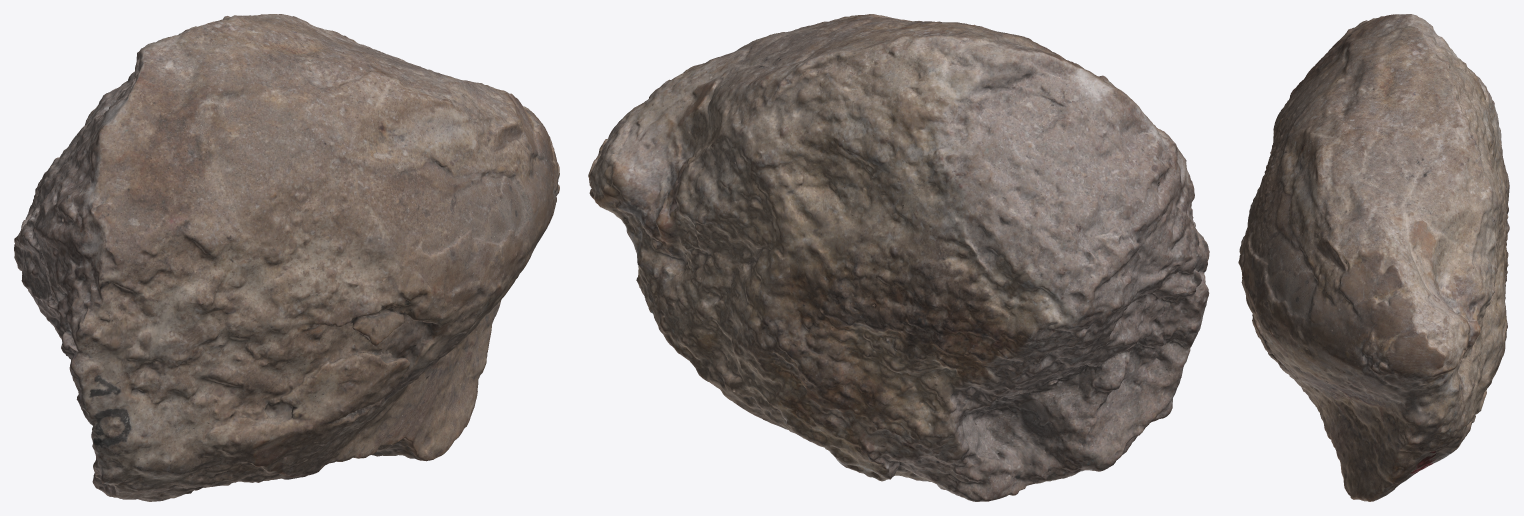
Rendered from EWS0014141.glb.
The picture shows the model from 3 angles, left to right: view 1: azimuth 30°, elevation 25°; view 2: azimuth 150°, elevation 25°; view 3: azimuth 270°, elevation 25°; orthographic projection. The views are drawn at different scales.
Visible parts, largest first — view 1: EWS0014141.001; view 2: EWS0014141.001; view 3: EWS0014141.001.
Part boxes in pixels (left/top/right/bottom): EWS0014141.001: left=14, top=14, right=559, bottom=501; EWS0014141.001: left=588, top=14, right=1209, bottom=501; EWS0014141.001: left=1238, top=14, right=1509, bottom=501.
Bounding box in the file's own units: 0.0618 × 0.05 × 0.0318.
1 material, 1 textured.
